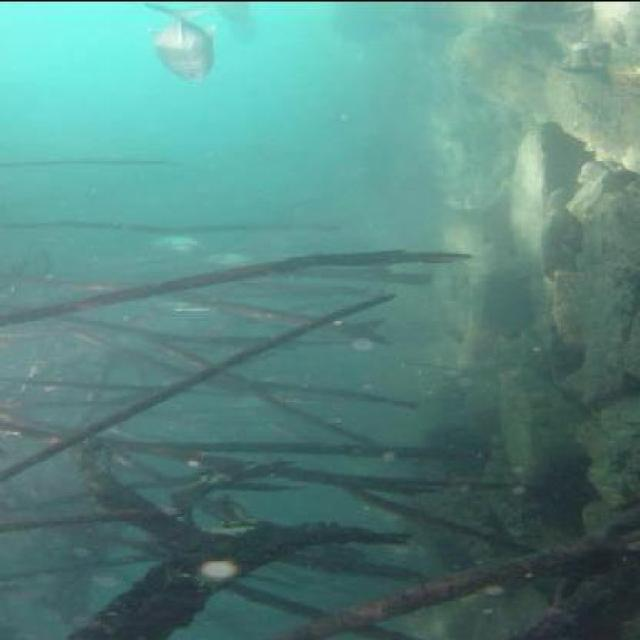Caranx_sexfasciatus_juvenile: (140, 0, 227, 78), (137, 227, 200, 262), (144, 294, 213, 321), (191, 242, 258, 269)
